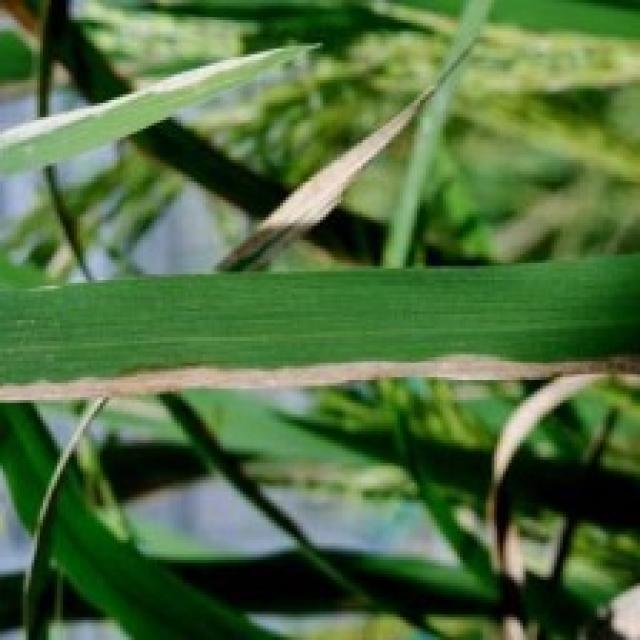Rice___Bacterial_Leaf_Blight: (0, 249, 637, 408)
